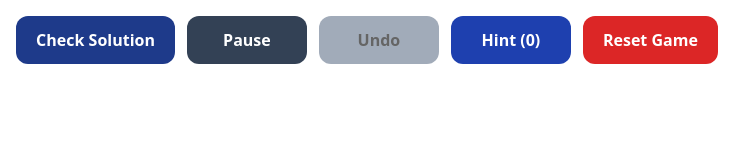
Test: GameControls › Reset Cooldown Mechanism › should show "Wait..." text during cooldown
This screenshot has width=735, height=160.
Step 1. Click the button with aria-label "reset the game" → point(650, 40), box top-left (583, 16), bottom-right (718, 64)
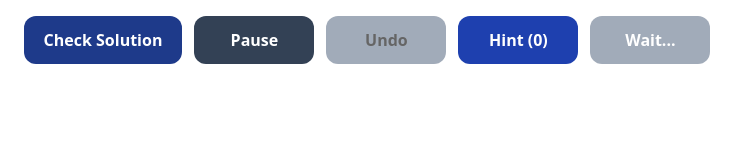
Now the button "Wait..." is disabled, box top-left (590, 16), bottom-right (710, 64)
